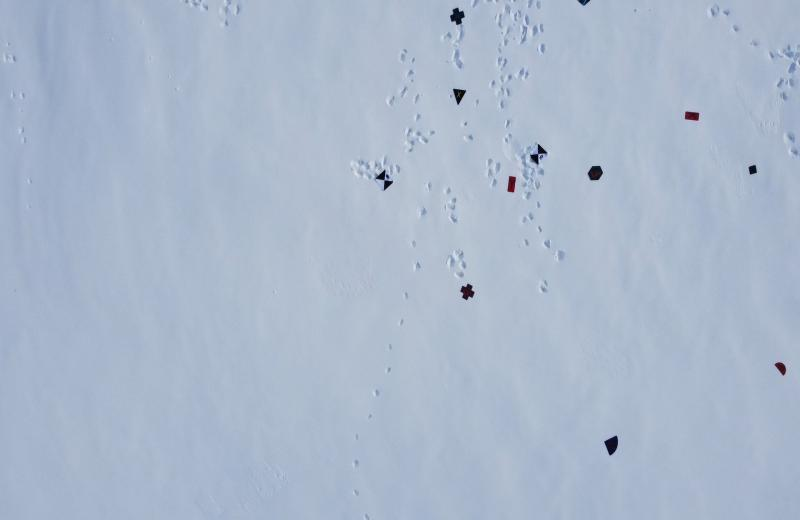Cross: (449, 7, 466, 25), (460, 282, 474, 300)
Hexagon: (587, 163, 603, 183)
Pentagon: (574, 0, 590, 6)
Quarter Circle: (602, 435, 620, 456)
Rectangle: (506, 174, 518, 193), (684, 110, 699, 123)
Semi Circle: (773, 359, 787, 377)
Square: (748, 164, 758, 176)
Triangle: (450, 88, 468, 107)
